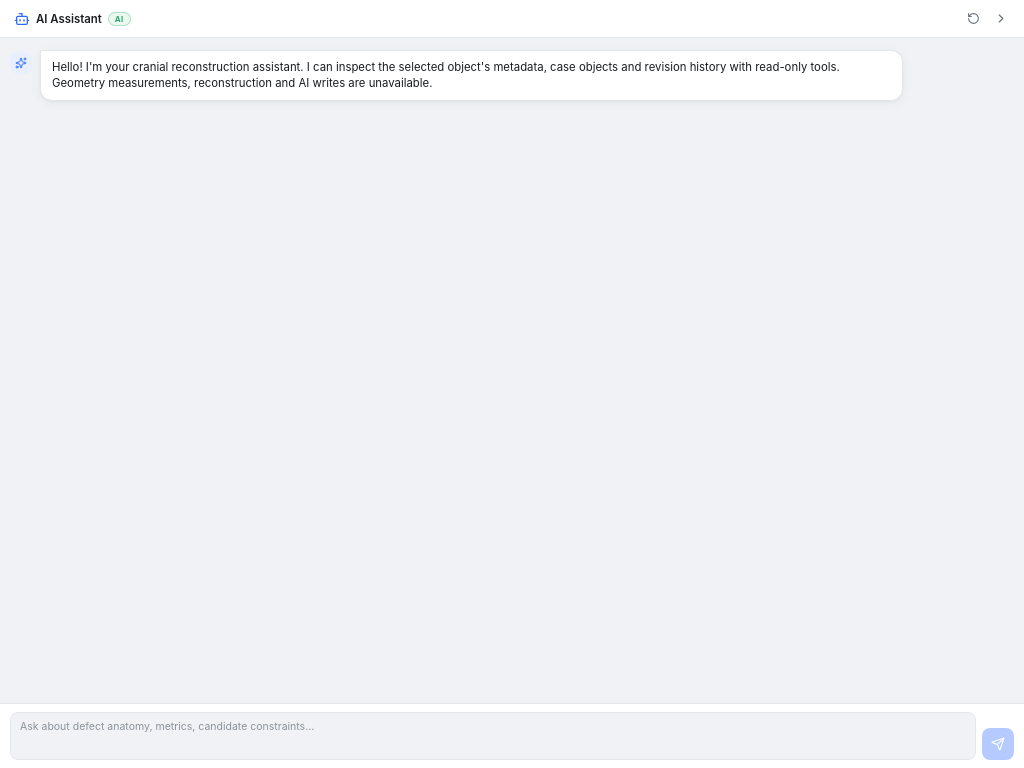
Scenario: subagent trace and source links (ai-deep-agent-research R18, R19) › S8: http(s) markdown links open in a new tab; other schemes stay plain text
Type "Papers on PEEK?" into the text box named "Message for AI assistant" at (493, 736), box 10,712 -> 976,760
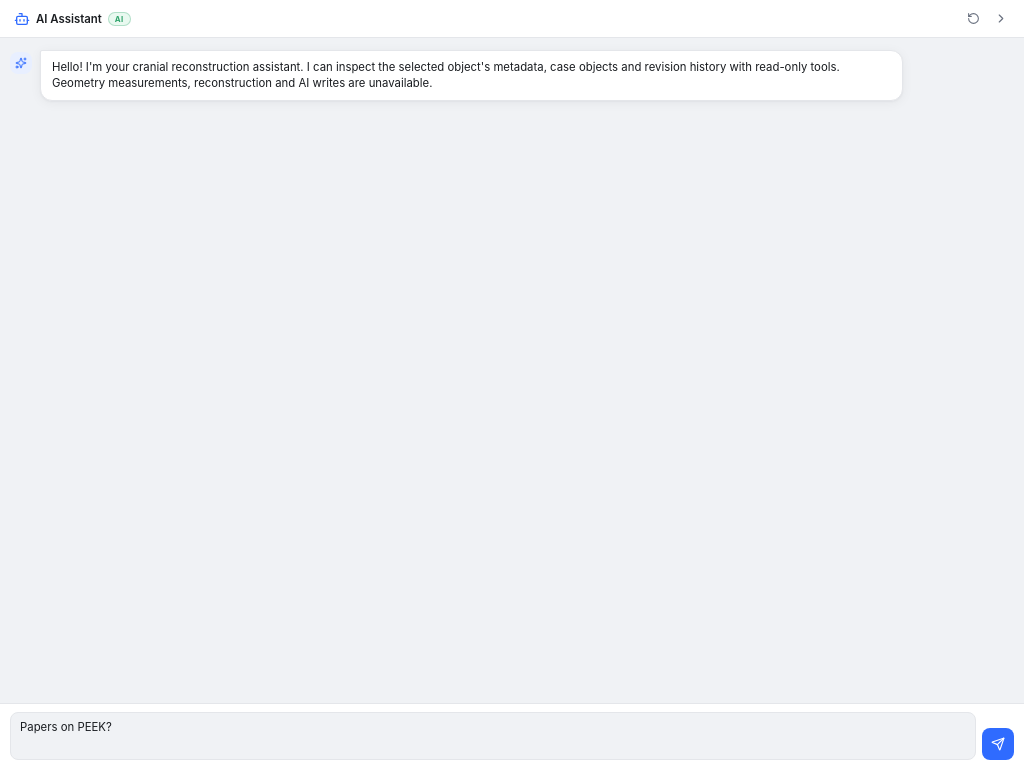
Click the button named "Send message to AI assistant" at (998, 744), box 982,728 -> 1014,760
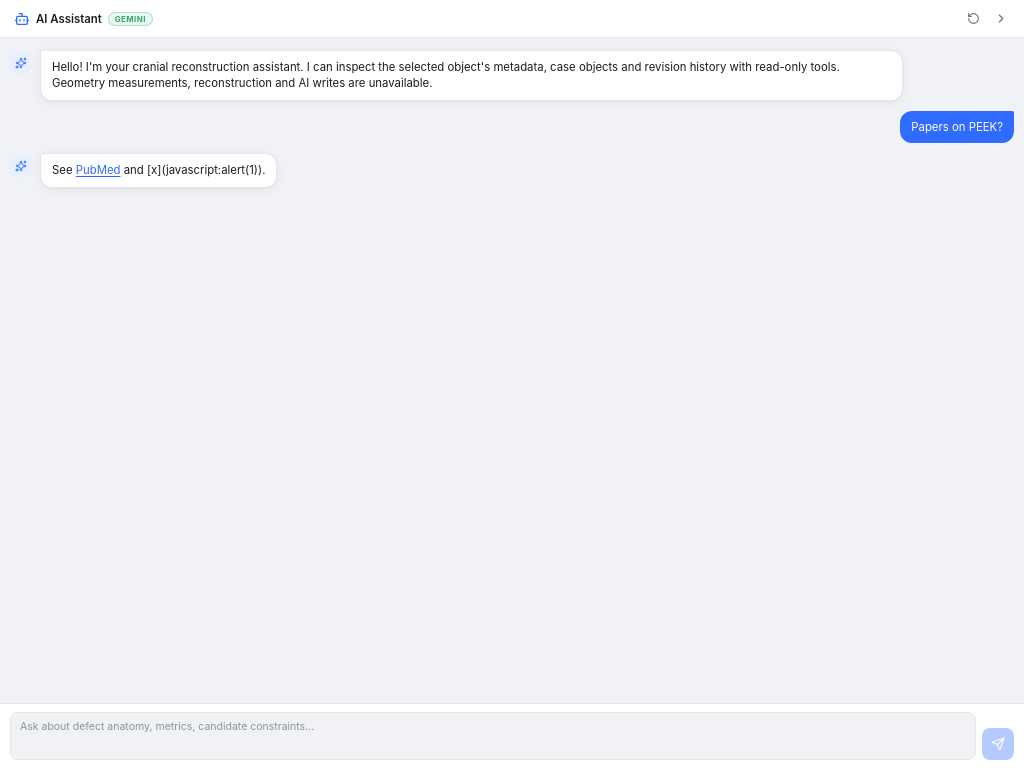
Check: the text "See PubMed and [x](javascript:alert(1))." is shown, box 52,164 -> 265,178
